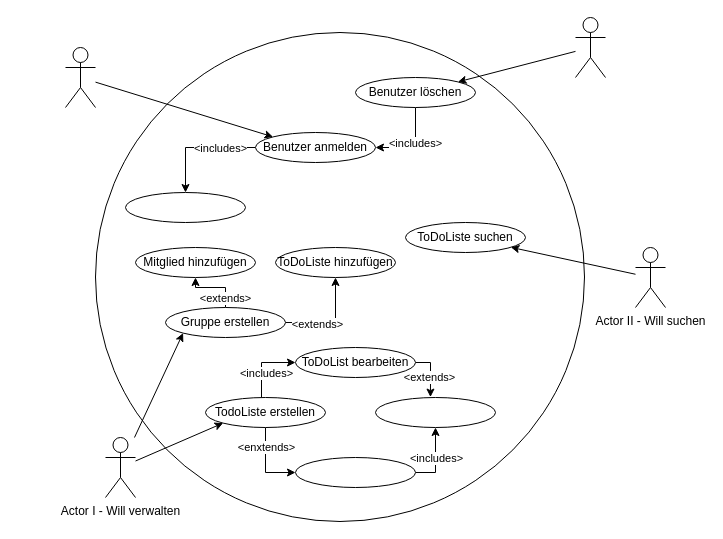
Some shapes in this 723 by 539 pixel diagram are drawn without their labels. The box of each missing label's shape, as (x1, y1, x2, y2) in pixels:
Actor III - Will anmelden: (64, 46, 96, 108)
Actor IV - Will Benutzer löschen: (574, 16, 606, 78)
Aufgabe bearbeiten: (294, 456, 416, 488)
Aufgabe erstellen: (374, 396, 496, 428)
Benutzer registrieren: (124, 192, 246, 222)
